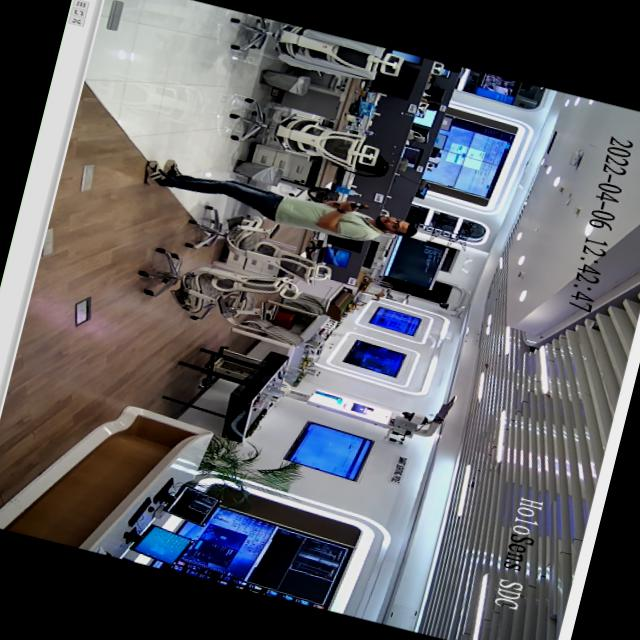long weapon: (319, 190, 376, 222)
